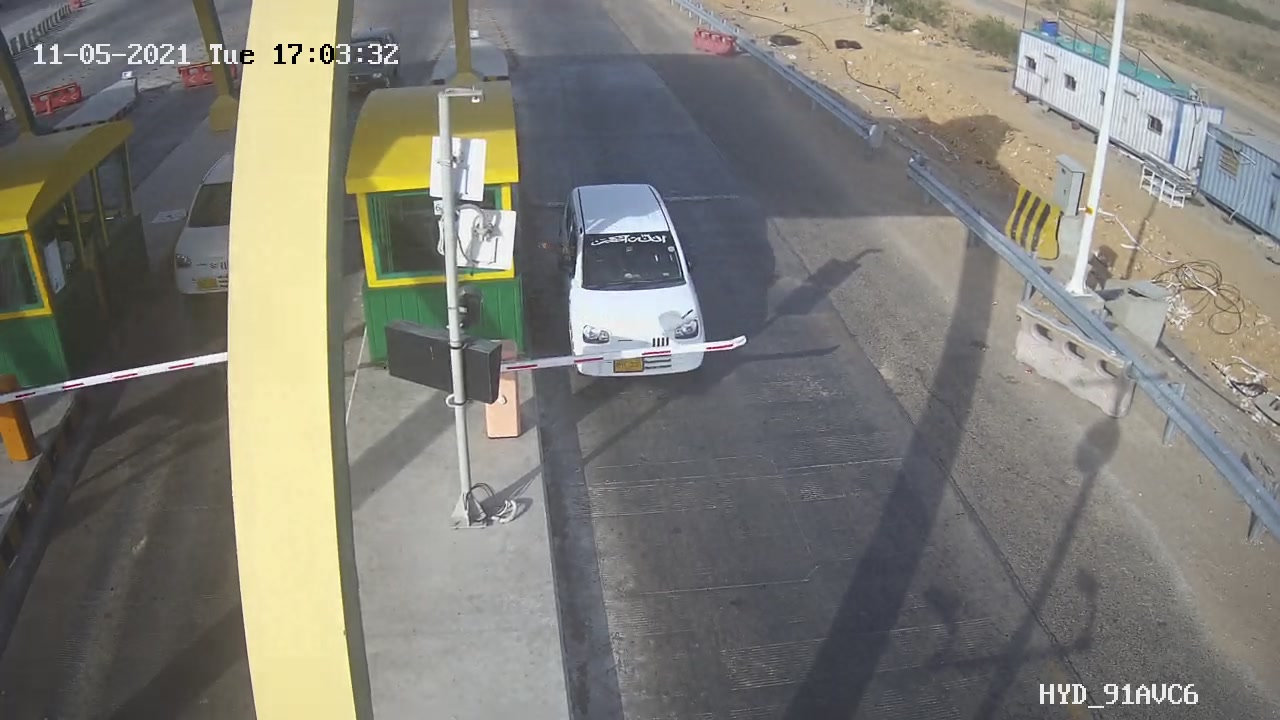F1: (539, 166, 725, 400)
